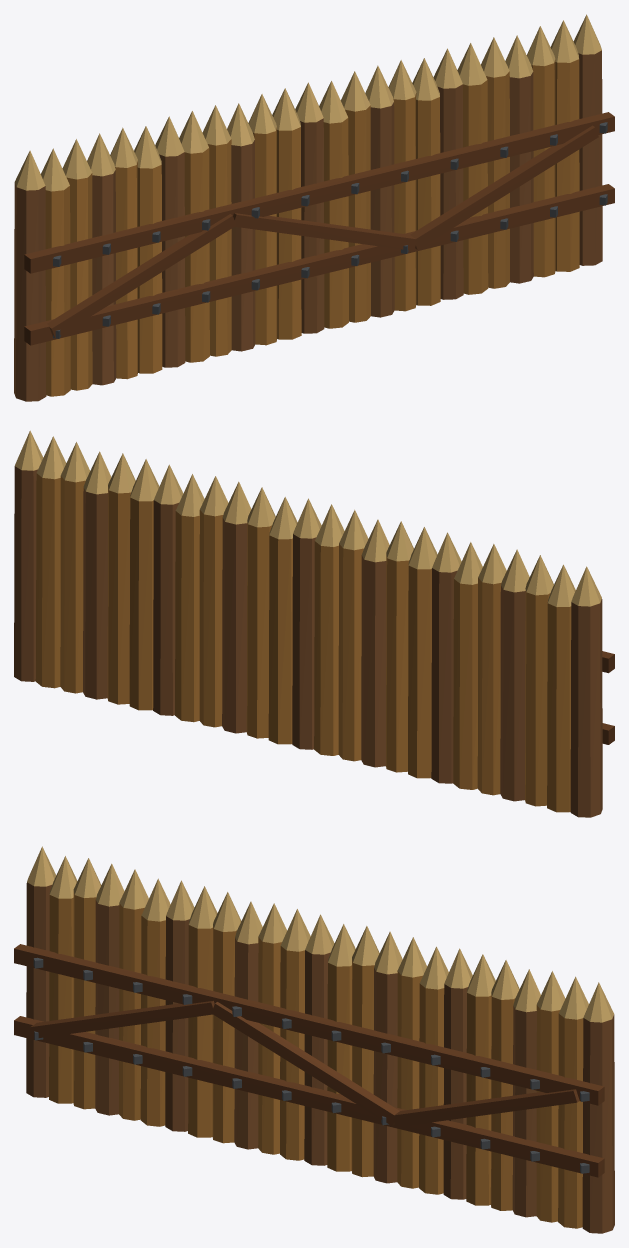
The picture shows the model from 3 angles, top to bottom: view 1: azimuth 30°, elevation 25°; view 2: azimuth 150°, elevation 25°; view 3: azimuth 330°, elevation 25°; orthographic projection.
Visible parts, largest first — view 1: WK_W03_LOD0_High; view 2: WK_W03_LOD0_High; view 3: WK_W03_LOD0_High.
Boxes of the visible parts, <box> form: WK_W03_LOD0_High: <box>14,14,614,401</box>; WK_W03_LOD0_High: <box>14,430,614,817</box>; WK_W03_LOD0_High: <box>14,846,614,1233</box>.
Size of the model in its own units: 8 by 3.2 by 0.65.
